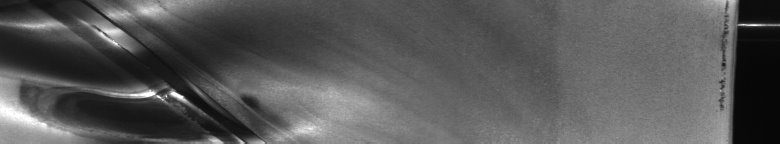ke: (4, 4, 259, 136)
